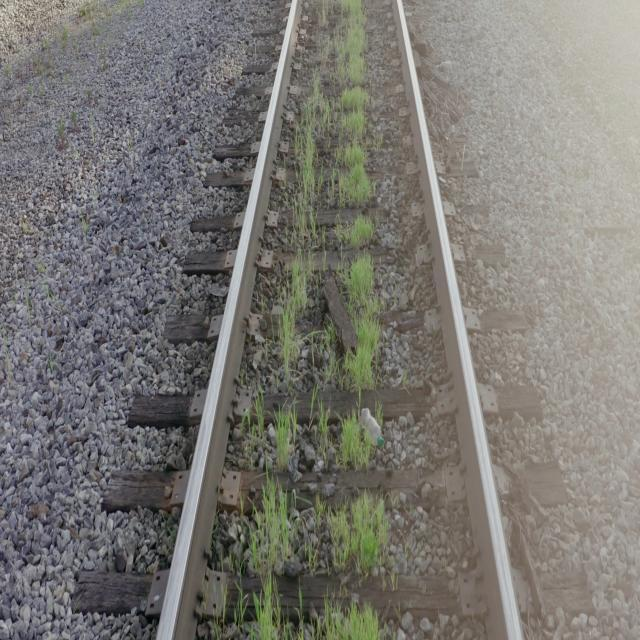Plant: (289, 0, 381, 393), (249, 480, 389, 638), (274, 409, 379, 478), (276, 256, 319, 389), (310, 604, 380, 640)
